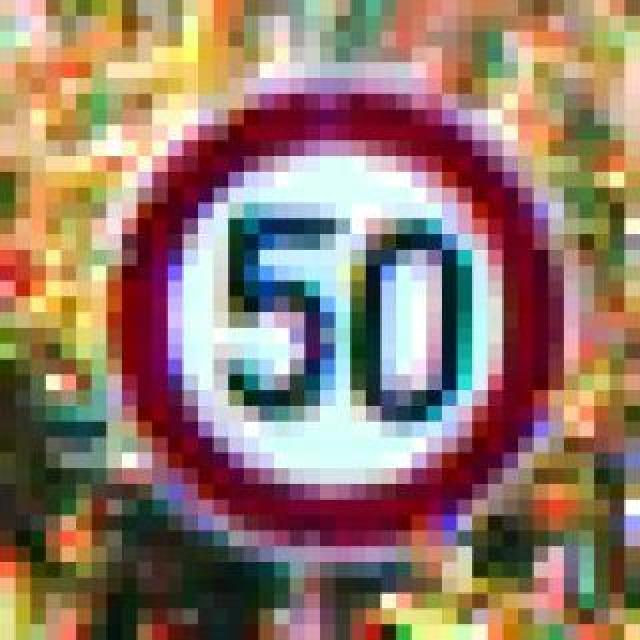50 kph: (92, 64, 564, 548)
